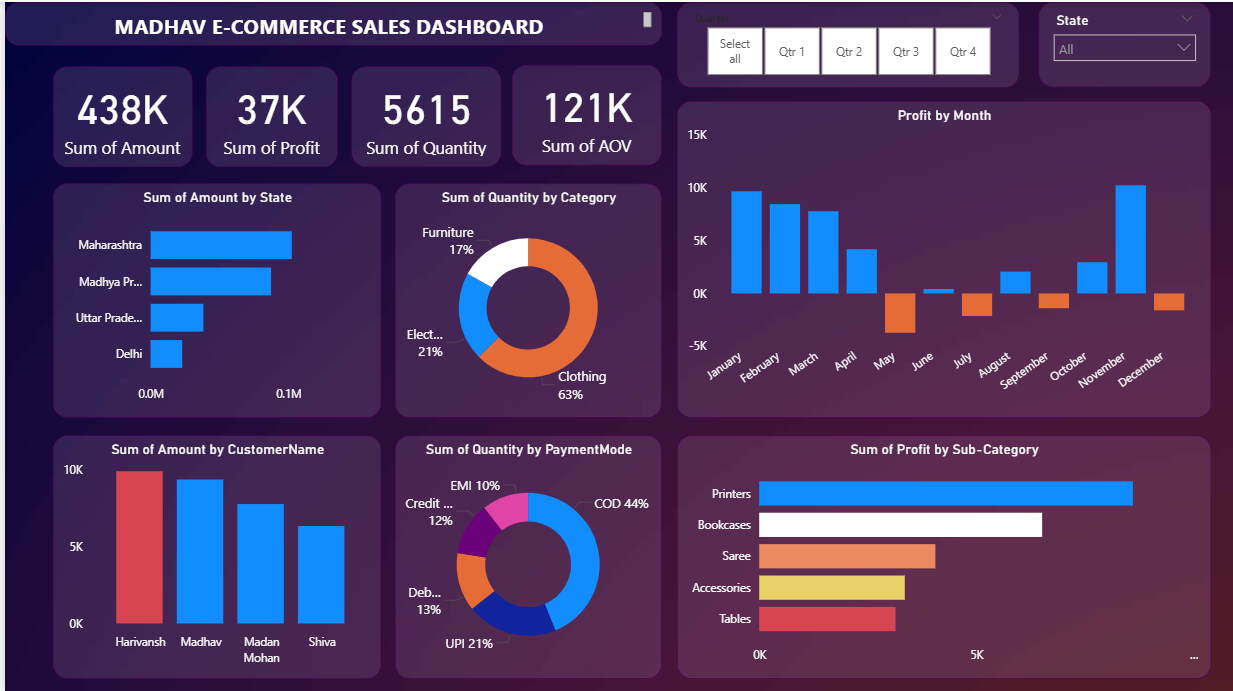

The dashboard page shown, as its layout file describes it:
{"tool":"powerbi","page":{"name":"Page 1","canvas":[1280,720],"ordinal":0},"visuals":[{"type":"textbox","box":[0,0,684.6,45.3],"z":0},{"type":"columnChart","title":" Profit by Month","fields":{"Y":["Details.Profit"],"Category":["Orders.Order Date.Variation.Date Hierarchy.Month"]},"box":[700.2,103.2,556.4,329.8],"z":1000},{"type":"barChart","fields":{"Category":["Details.Sub-Category"],"Y":["Details.Profit"]},"box":[700.2,451.7,556.4,253.2],"z":2000},{"type":"donutChart","fields":{"Category":["Details.Category"],"Y":["Details.Quantity"]},"box":[406.4,189.1,278.2,243.8],"z":3000},{"type":"donutChart","fields":{"Y":["Details.Quantity"],"Category":["Details.PaymentMode"]},"box":[406.4,451.7,278.2,253.2],"z":4000},{"type":"card","fields":{"Values":["Details.Amount"]},"box":[50,67.2,145.4,104.7],"z":5000},{"type":"card","fields":{"Values":["Details.Profit"]},"box":[209.4,67.2,137.5,104.7],"z":6000},{"type":"card","fields":{"Values":["Details.Quantity"]},"box":[361.1,67.2,156.3,104.7],"z":7000},{"type":"card","fields":{"Values":["Details.AOV"]},"box":[528.3,65.6,156.3,104.7],"z":8000},{"type":"barChart","fields":{"Category":["Orders.State"],"Y":["Details.Amount"]},"box":[50,189.1,342.3,243.8],"z":9000},{"type":"columnChart","fields":{"Category":["Orders.CustomerName"],"Y":["Details.Amount"]},"box":[50,451.7,342.3,253.2],"z":10000},{"type":"slicer","fields":{"Values":["Orders.Order Date.Variation.Date Hierarchy.Quarter"]},"box":[700.2,0,356.4,89.1],"z":11000},{"type":"slicer","fields":{"Values":["Orders.State"]},"box":[1077.2,0,179.5,88.8],"z":12000}]}

Visuals, with their boxes in screenshot pixels (x1, y1, x2, y2), scaled from the page's 1280x720 canvas onto the 1233x691 screenshot:
textbox: 0/0/659/43
" Profit by Month" columnChart: 674/99/1210/416
barChart - Details.Sub-Category x Details.Profit: 674/434/1210/677
donutChart - Details.Category x Details.Quantity: 391/181/659/415
donutChart - Details.Quantity x Details.PaymentMode: 391/434/659/677
card - Details.Amount: 48/64/188/165
card - Details.Profit: 202/64/334/165
card - Details.Quantity: 348/64/498/165
card - Details.AOV: 509/63/659/163
barChart - Orders.State x Details.Amount: 48/181/378/415
columnChart - Orders.CustomerName x Details.Amount: 48/434/378/677
slicer - Orders.Order Date.Variation.Date Hierarchy.Quarter: 674/0/1018/86
slicer - Orders.State: 1038/0/1211/85
